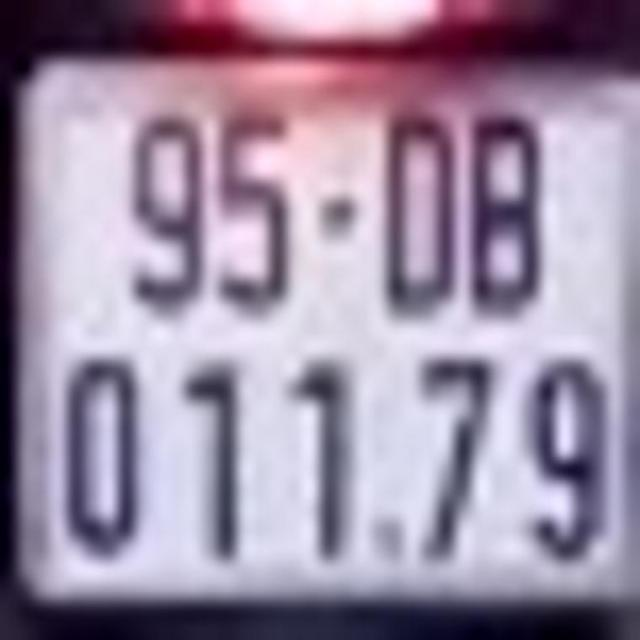0: (59, 354, 141, 570)
1: (186, 356, 250, 559), (292, 358, 343, 564)
7: (404, 356, 478, 567)
8: (466, 110, 544, 316)
9: (530, 353, 609, 561), (132, 113, 206, 321)
D: (378, 105, 457, 321)
